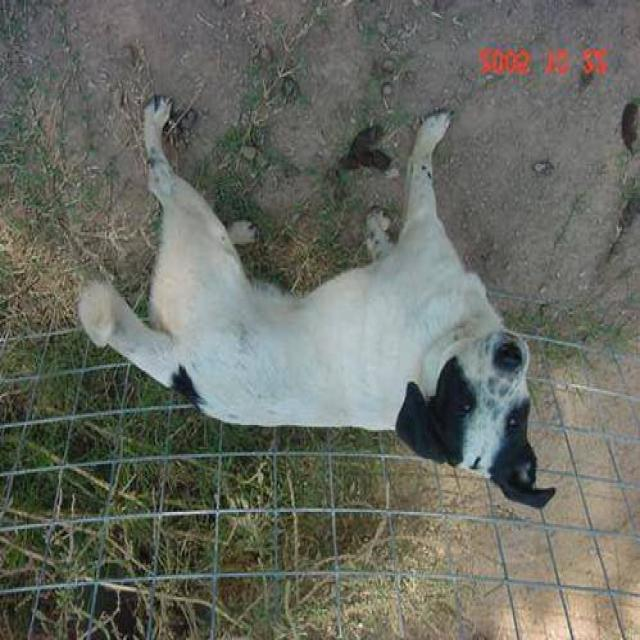dog: (66, 97, 560, 512)
